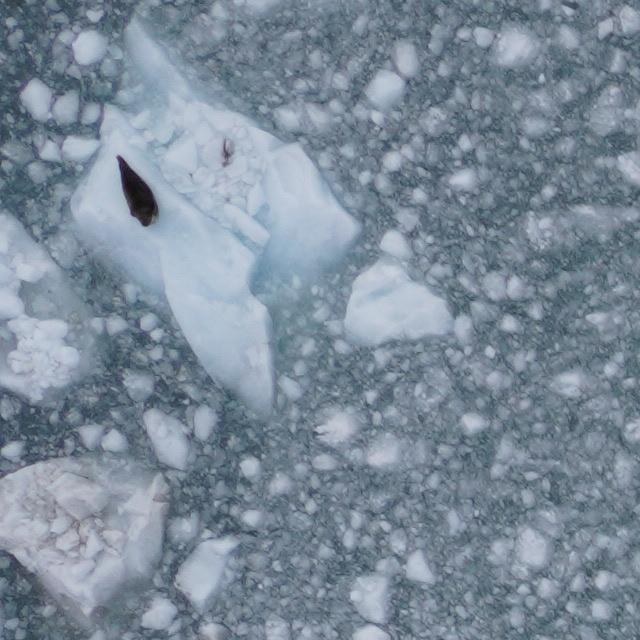seal: (111, 149, 163, 233)
